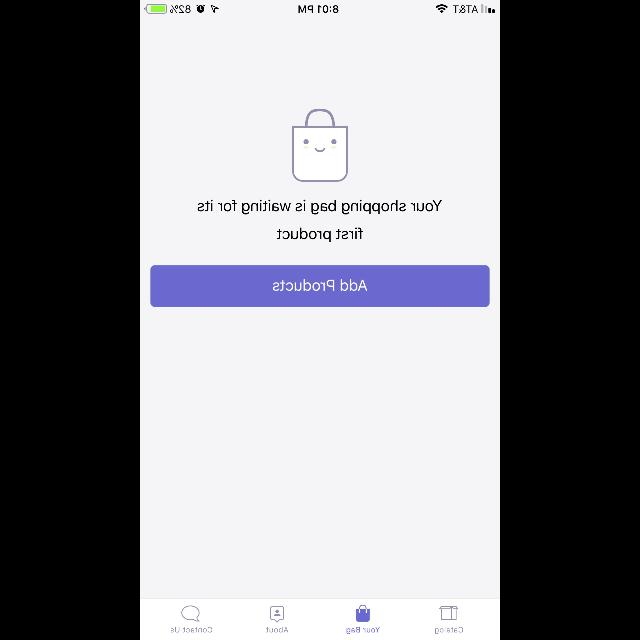icon: (292, 110, 348, 182), (181, 606, 199, 622), (356, 604, 370, 622), (270, 606, 284, 622)
image: (438, 606, 458, 620)
text: (197, 200, 441, 242), (346, 626, 379, 634), (170, 627, 212, 633), (435, 626, 463, 634), (266, 627, 288, 633)
textbutton: (150, 265, 490, 307)
uppertaskbar: (140, 0, 500, 14)
